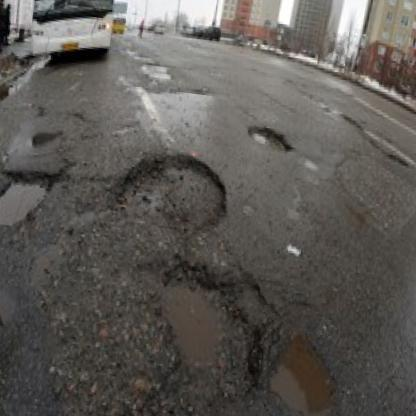pothole: (147, 257, 243, 376), (115, 147, 233, 237), (246, 316, 345, 416), (0, 163, 58, 235), (244, 123, 294, 154), (386, 152, 411, 171)
